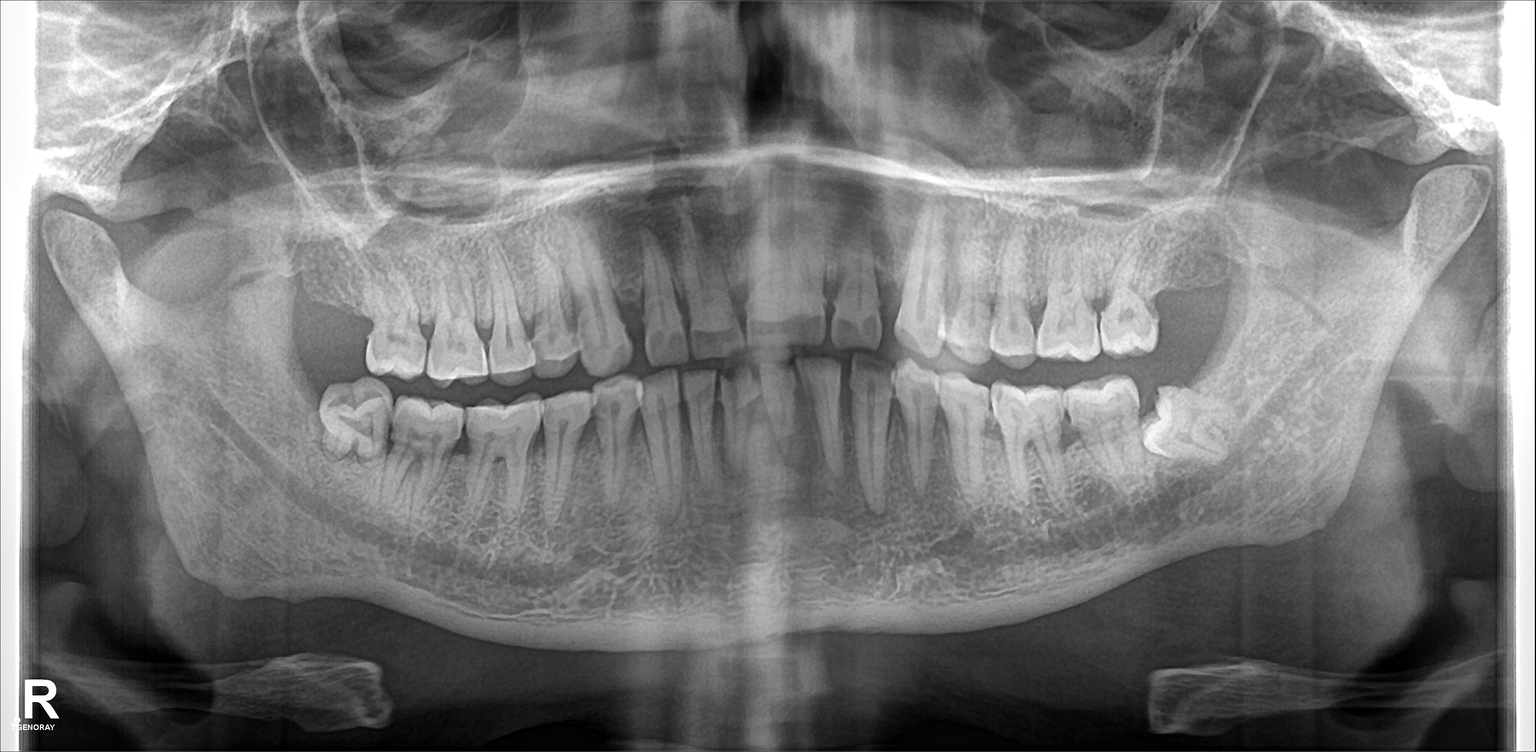Dental Caries: (827, 313, 883, 350)
Impacted Third Molar: (1142, 380, 1232, 463), (320, 378, 389, 453)
Missing Tooth: (1155, 266, 1207, 347), (326, 281, 371, 359), (291, 274, 320, 367)
